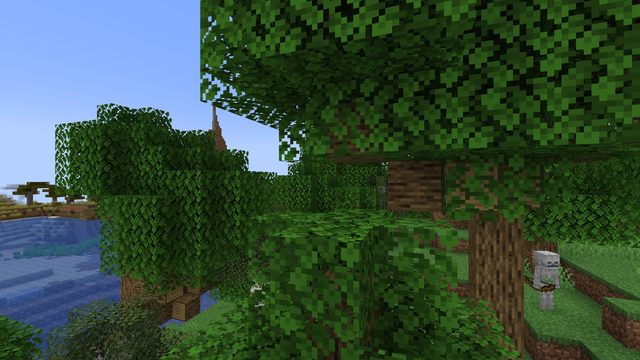squelettes: (532, 250, 560, 313)
